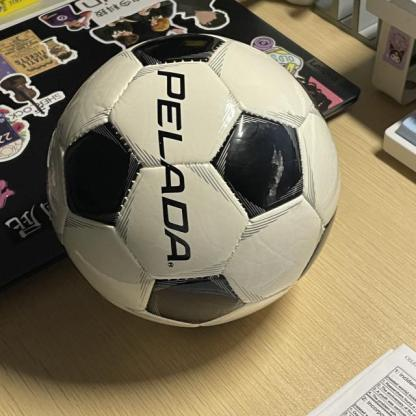ball: (44, 32, 338, 328)
